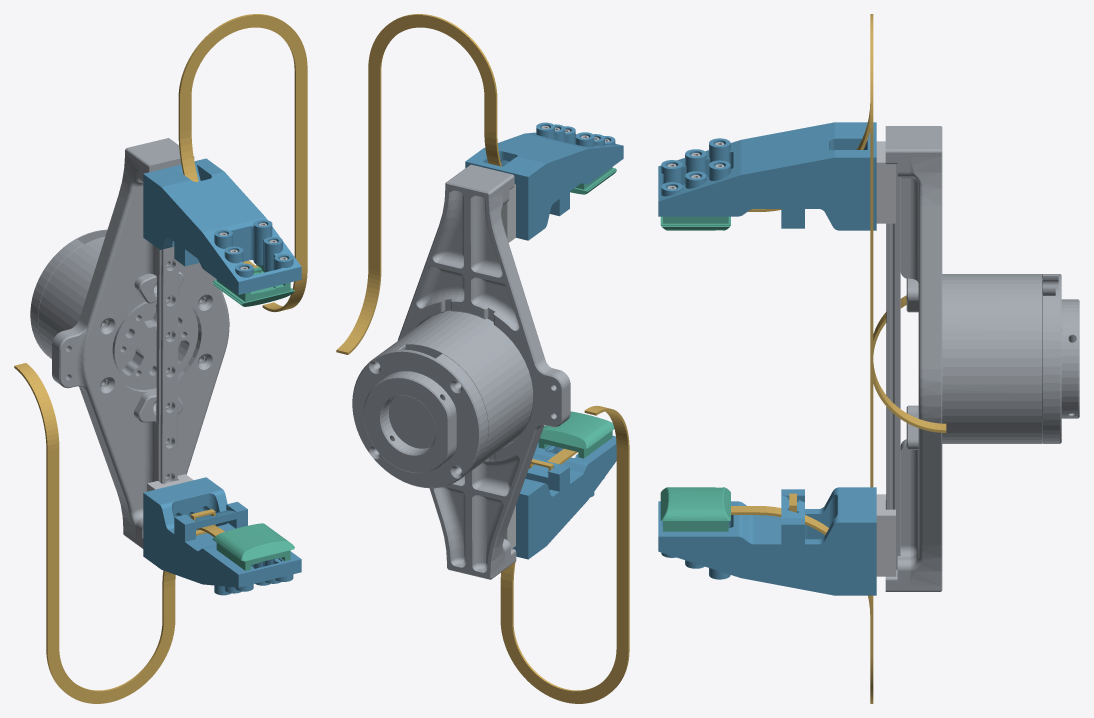
Rendered from assembly_open100.glb.
The picture shows the model from 3 angles, left to right: view 1: azimuth 30°, elevation 25°; view 2: azimuth 150°, elevation 25°; view 3: azimuth 270°, elevation 25°; orthographic projection. The views are drawn at different scales.
Visible parts, largest first — view 1: original_actuator_and_transmission, replacement_finger_2, replacement_finger_1, service_loop_envelope_1, service_loop_envelope_2, M2324_1, M2324_2, moving_harness_envelope_2; view 2: original_actuator_and_transmission, replacement_finger_2, service_loop_envelope_2, service_loop_envelope_1, replacement_finger_1, M2324_1, retained_carrier_2, moving_harness_envelope_1, moving_harness_envelope_2; view 3: original_actuator_and_transmission, replacement_finger_2, replacement_finger_1, M2324_1, service_loop_envelope_2, retained_carrier_1, retained_carrier_2, service_loop_envelope_1, M2324_2, moving_harness_envelope_1.
Boxes of the visible parts, x1,y1,x2,y2 form: original_actuator_and_transmission: [30, 138, 229, 548]; replacement_finger_2: [143, 158, 301, 294]; replacement_finger_1: [143, 477, 301, 595]; service_loop_envelope_1: [14, 363, 175, 703]; service_loop_envelope_2: [178, 14, 307, 312]; M2324_1: [212, 523, 294, 570]; M2324_2: [212, 264, 294, 306]; moving_harness_envelope_2: [178, 130, 255, 266]; original_actuator_and_transmission: [352, 164, 570, 579]; replacement_finger_2: [465, 122, 623, 240]; service_loop_envelope_2: [336, 14, 497, 354]; service_loop_envelope_1: [500, 405, 629, 703]; replacement_finger_1: [512, 435, 616, 559]; M2324_1: [538, 411, 614, 458]; retained_carrier_2: [501, 184, 515, 242]; moving_harness_envelope_1: [500, 448, 577, 588]; moving_harness_envelope_2: [484, 130, 501, 166]; original_actuator_and_transmission: [885, 126, 1079, 591]; replacement_finger_2: [658, 122, 876, 230]; replacement_finger_1: [658, 487, 876, 595]; M2324_1: [660, 487, 730, 531]; service_loop_envelope_2: [870, 14, 946, 432]; retained_carrier_1: [876, 494, 895, 576]; retained_carrier_2: [876, 141, 895, 223]; service_loop_envelope_1: [870, 295, 906, 703]; M2324_2: [660, 216, 730, 230]; moving_harness_envelope_1: [731, 506, 873, 616].
Size of the model in its own units: 0.1152 by 0.2766 by 0.1412.
